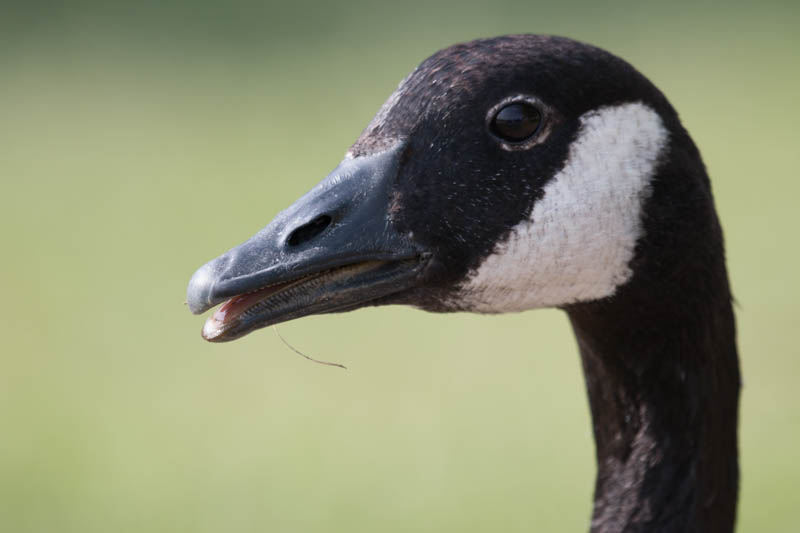goose-head: (183, 32, 720, 345)
